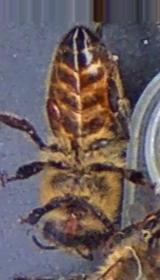varroa_mite: (40, 90, 66, 133)
